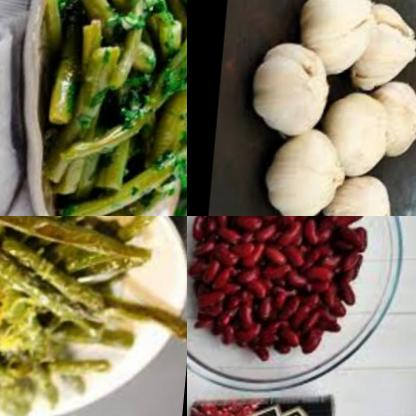fasol: (0, 216, 187, 416), (37, 0, 187, 216), (187, 216, 379, 361), (187, 393, 262, 416)
garlic: (248, 41, 337, 139), (262, 129, 352, 216), (329, 87, 406, 180), (352, 3, 416, 91), (300, 0, 373, 73), (362, 70, 416, 167), (319, 173, 402, 216)
